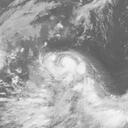cyclone: (37, 50, 90, 92)
